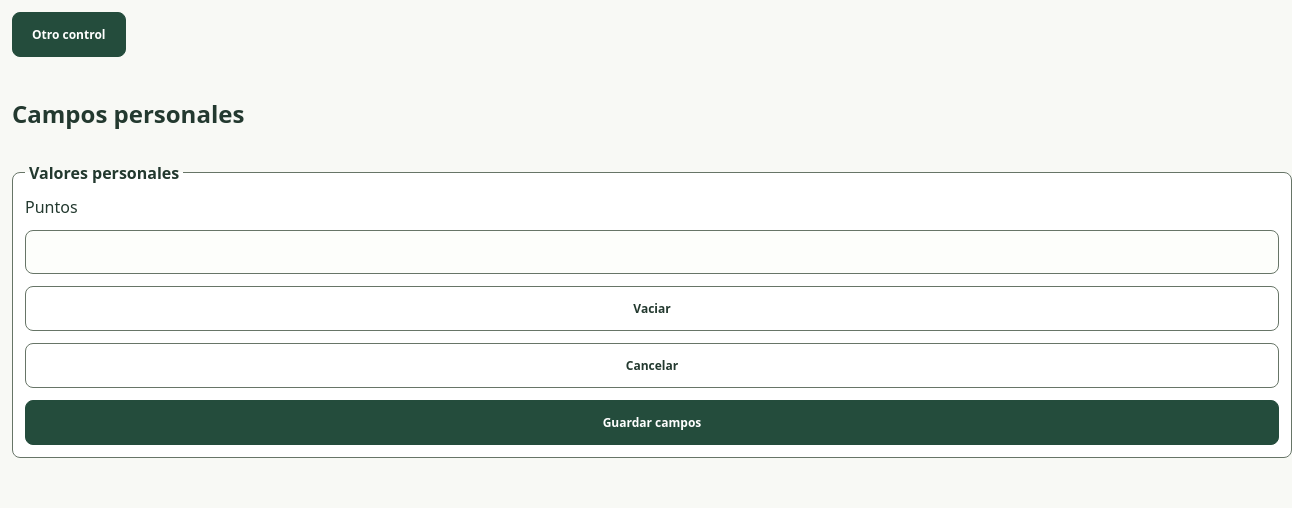
Scenario: @s32 accepts positive boundary without a sign
This screenshot has width=1292, height=508.
Type "1000000000" into the field labelled "Puntos" at coordinates (652, 252), box [25,230,1279,274]
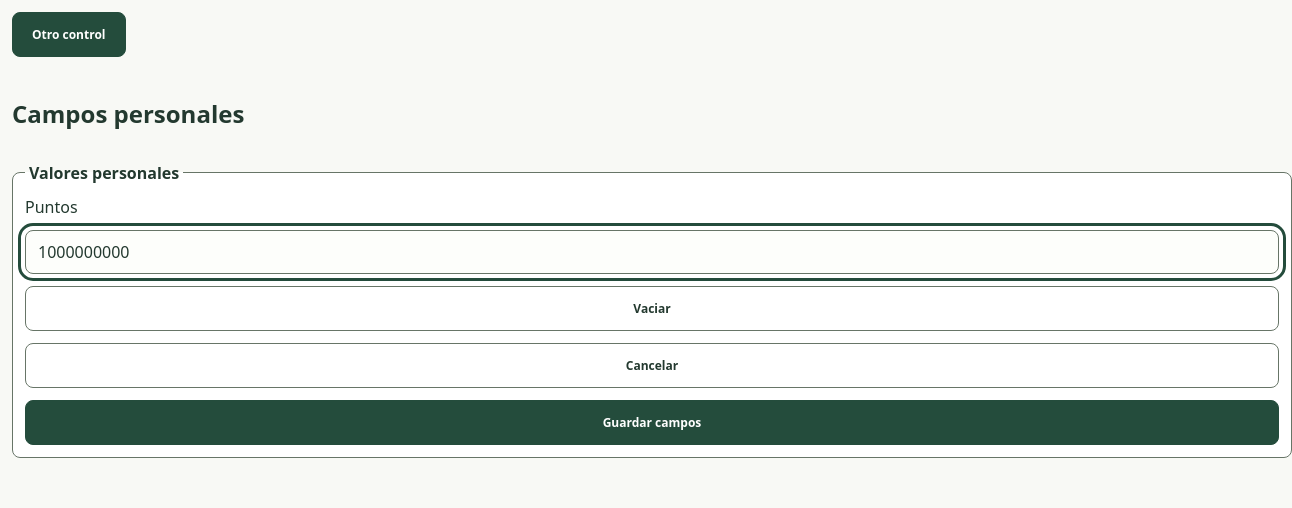
Click the button "Guardar campos" at coordinates (652, 422), box [25,400,1279,445]
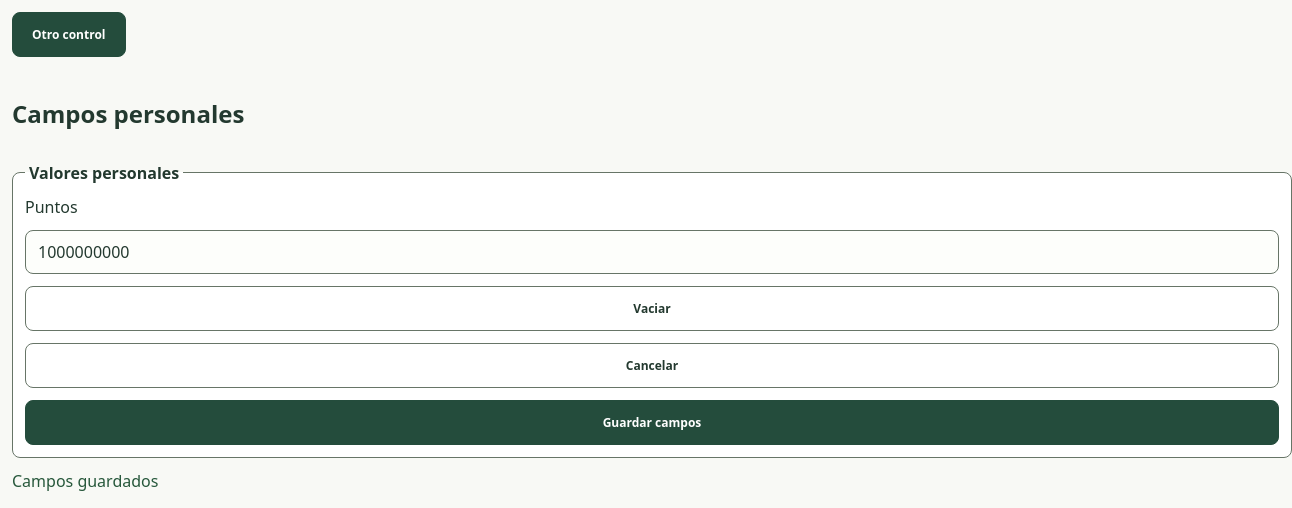
Check: the text "Campos guardados" is shown, box [12,470,158,492]
